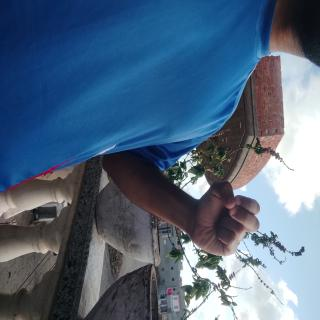QAAF: (130, 70, 200, 185)
